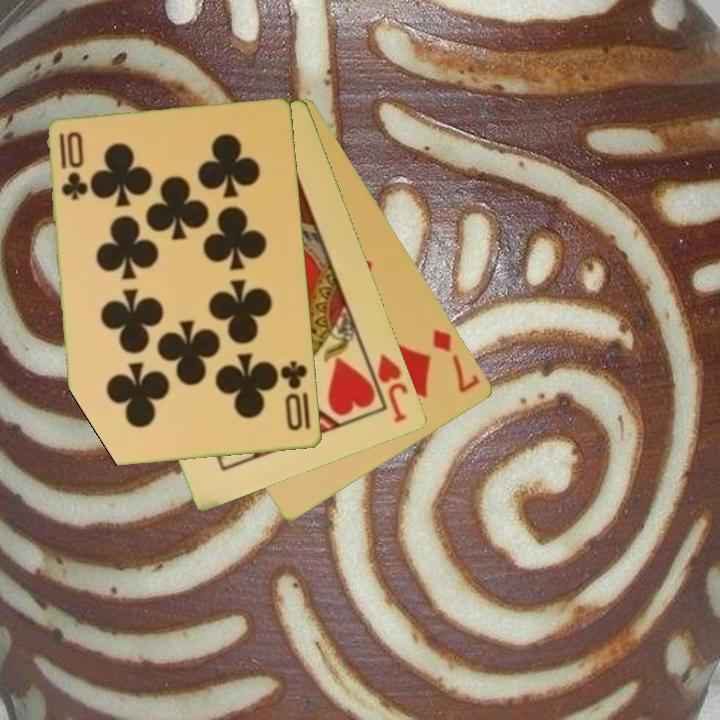10c: (277, 357, 311, 434), (56, 129, 89, 204)
7d: (429, 325, 484, 397)
Jh: (374, 350, 411, 426)
